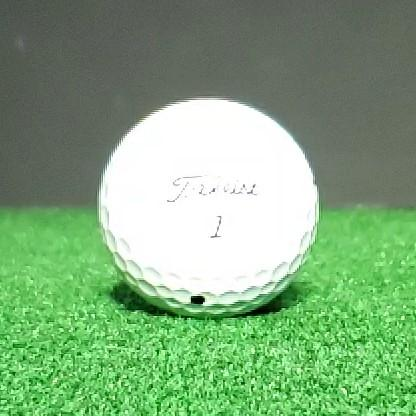golfball: (98, 99, 318, 318)
